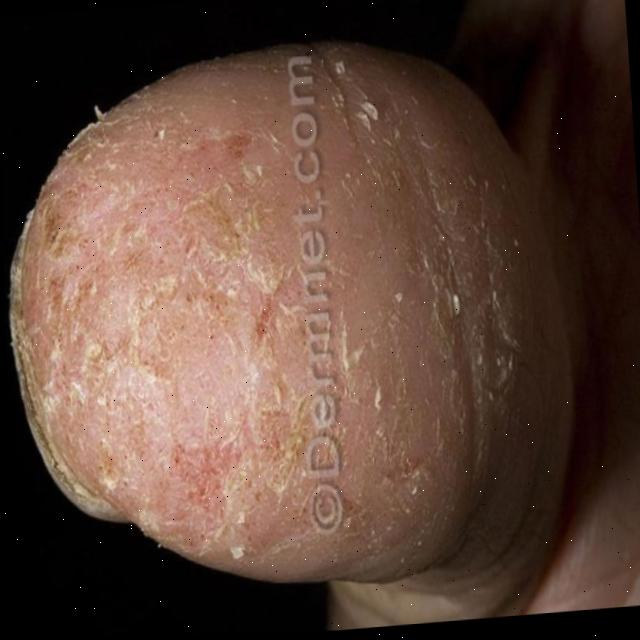Eczema: (38, 168, 267, 502)
